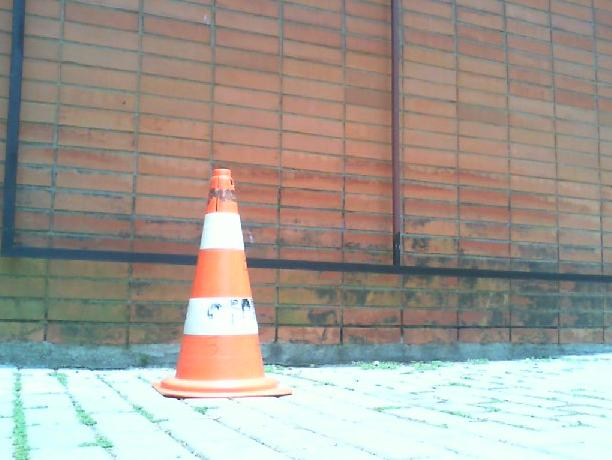0 cone: (151, 169, 291, 399)
